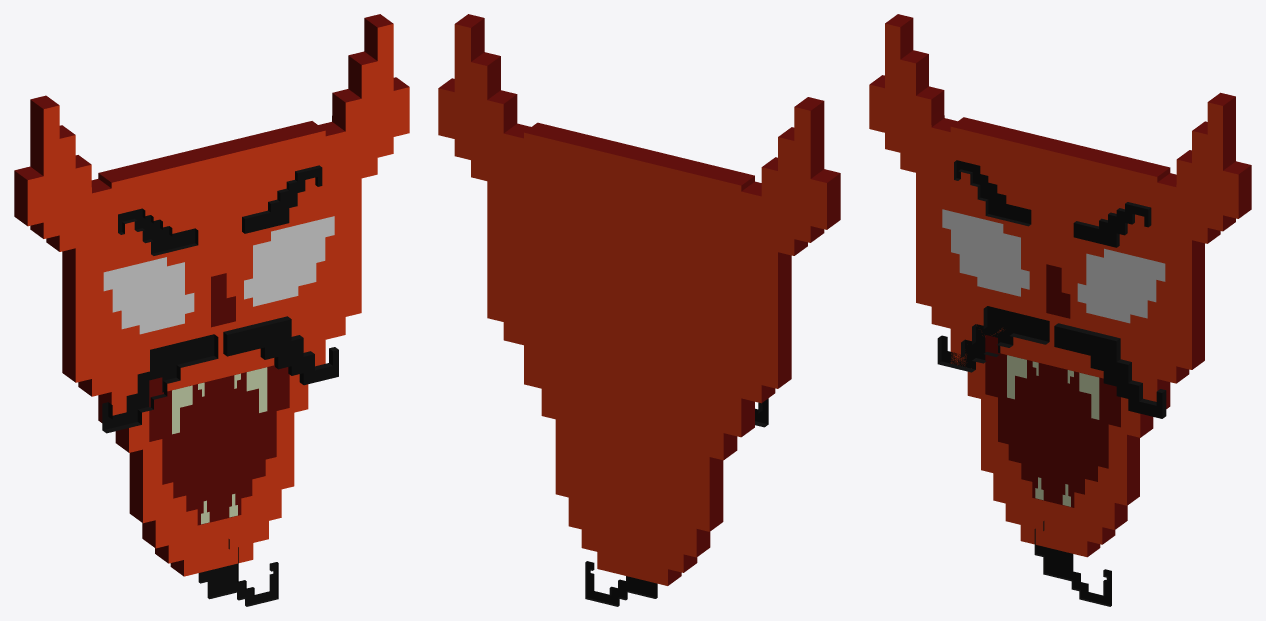
The model's file is Destroyer 1.fbx.
3 views of the same model, side by side, from view 1: azimuth 30°, elevation 25°; view 2: azimuth 150°, elevation 25°; view 3: azimuth 330°, elevation 25° (orthographic). The views are drawn at different scales.
Parts seen in each view (by area): view 1: head, mouth, eyes, mostacho, eyebrows, beard, teeths, nose; view 2: head, beard; view 3: head, mouth, eyes, mostacho, eyebrows, beard, teeths, nose.
Part boxes in pixels (x1,y1,x2,y2): head: (14, 14, 409, 576); mouth: (149, 365, 289, 525); eyes: (103, 216, 334, 334); mostacho: (102, 316, 338, 433); eyebrows: (118, 165, 322, 255); beard: (198, 539, 278, 606); teeths: (172, 367, 267, 524); nose: (211, 273, 235, 327); head: (438, 14, 840, 585); beard: (585, 561, 657, 606); head: (869, 14, 1251, 557); mouth: (985, 335, 1120, 507); eyes: (942, 209, 1165, 323); mostacho: (937, 306, 1166, 418); eyebrows: (954, 160, 1151, 247); beard: (1034, 521, 1111, 606); teeths: (1007, 355, 1099, 506); nose: (1046, 264, 1070, 318).
Bounding box in the file's own units: 477 × 652 × 37.98.
